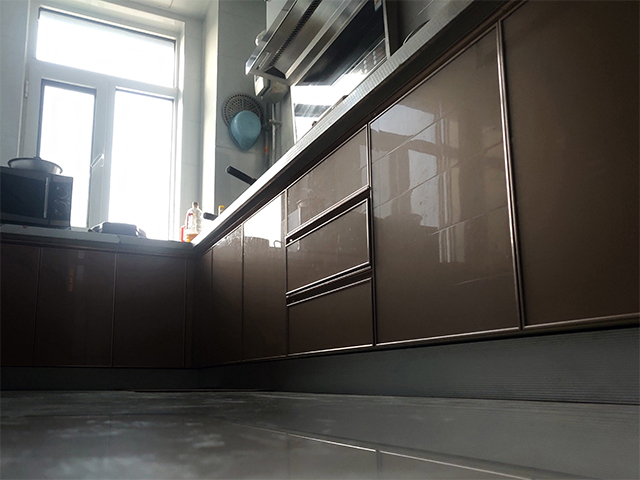cabinet: (192, 1, 640, 403), (1, 228, 189, 392)
